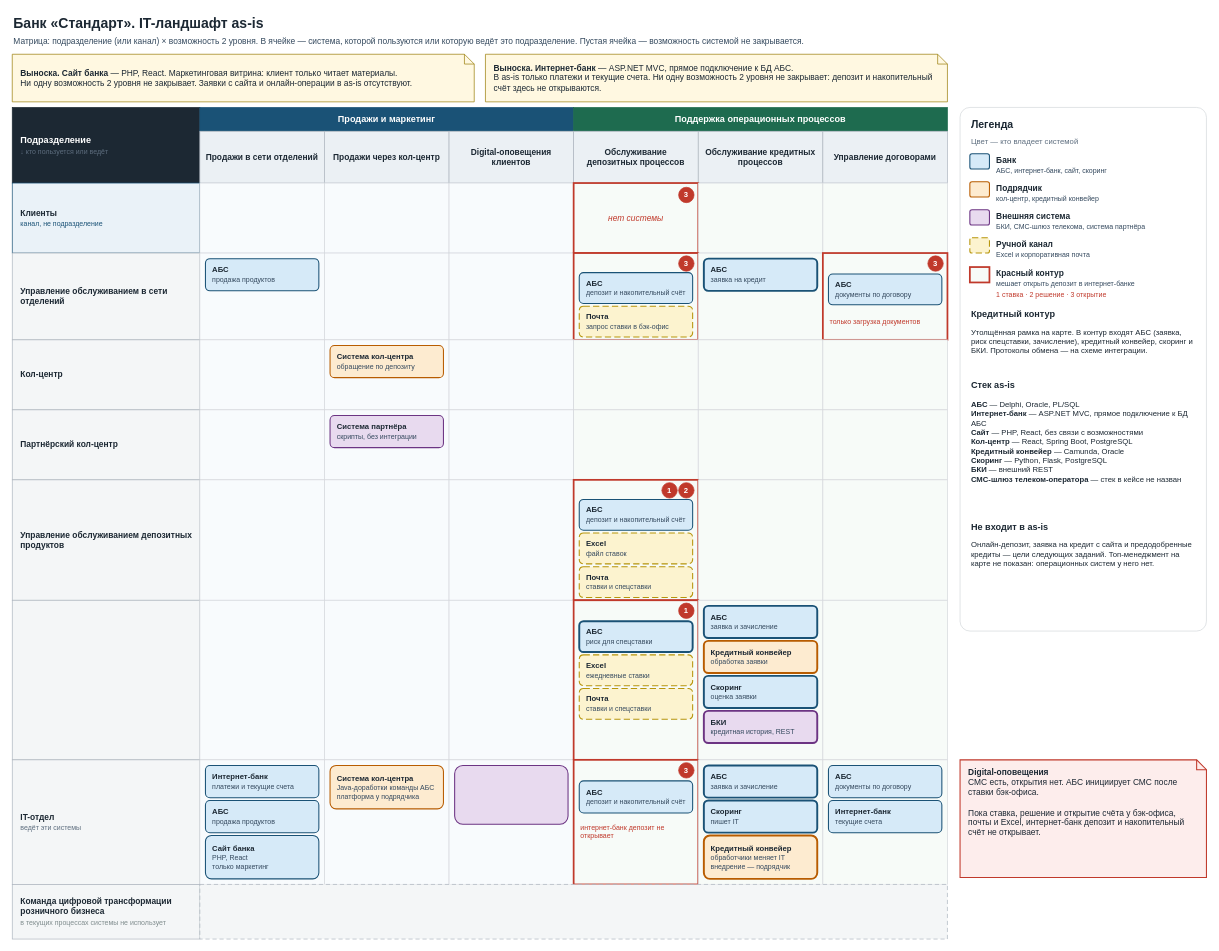
Some shapes in this 1219 by 951 pixel diagram are drawn without their labels. Each missing label, with the centre of its shape:
Нет систем в текущих процессах: the point at 573,911
СМС-шлюз телеком-оператора АБС шлёт после ставки бэк-офиса IT сопровождает канал: the point at 511,794
Управление обслуживанием кредитных продуктов: the point at 106,680
